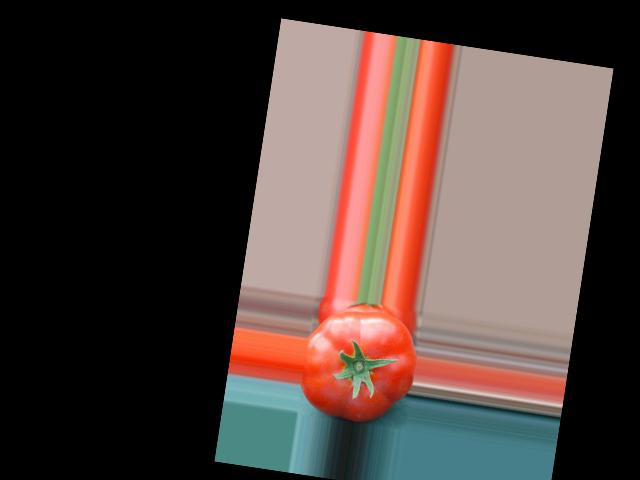tomato: (296, 302, 423, 428)
